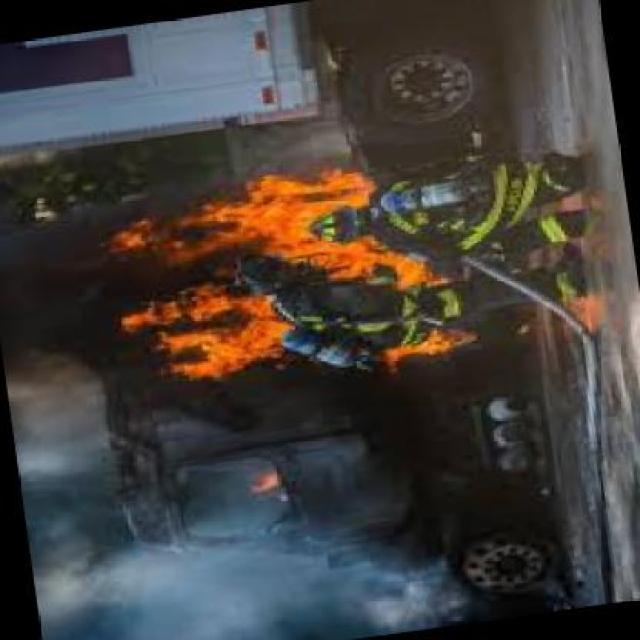Fire: (105, 168, 481, 374)
Smoke: (7, 174, 150, 626), (32, 515, 466, 625)
